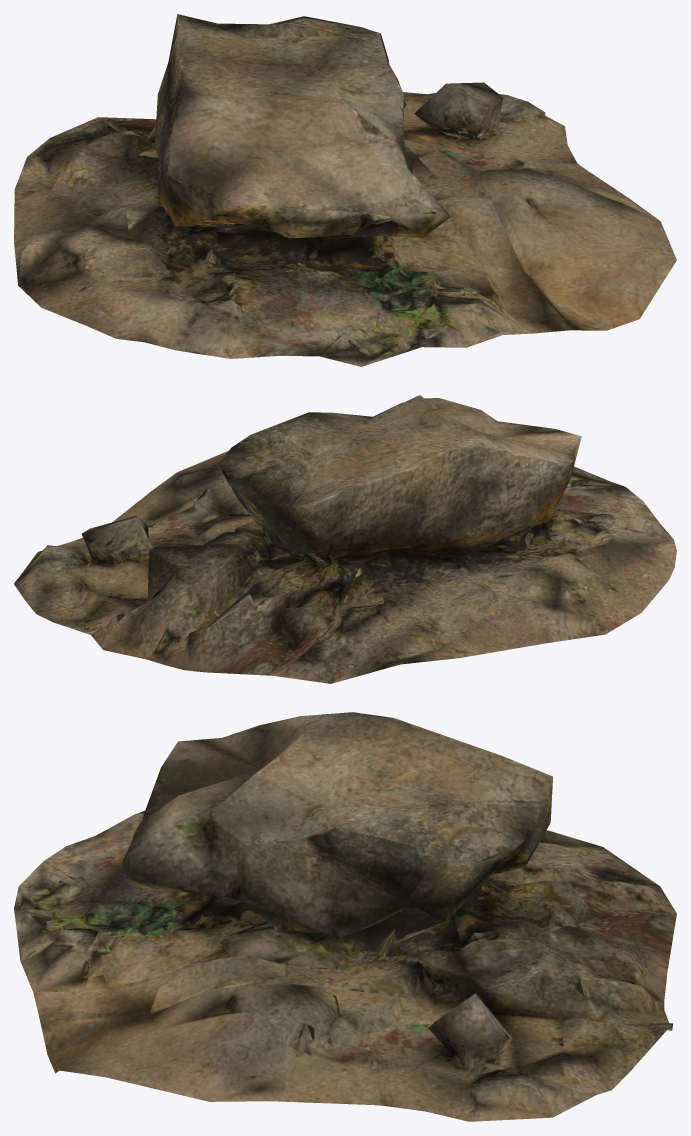
Rendered from coast_rock.glb.
3 views of the same model, one above another, from view 1: azimuth 30°, elevation 25°; view 2: azimuth 150°, elevation 25°; view 3: azimuth 270°, elevation 25° (orthographic). The views are drawn at different scales.
Parts seen in each view (by area): view 1: coast_rocks_05; view 2: coast_rocks_05; view 3: coast_rocks_05.
Part boxes in pixels (x1,y1,x2,y2): coast_rocks_05: (14, 14, 676, 366); coast_rocks_05: (14, 395, 676, 683); coast_rocks_05: (14, 712, 676, 1121).
Bounding box in the file's own units: 4.03 × 1.3 × 3.74.
Materials: 1 (1 with a texture image).
